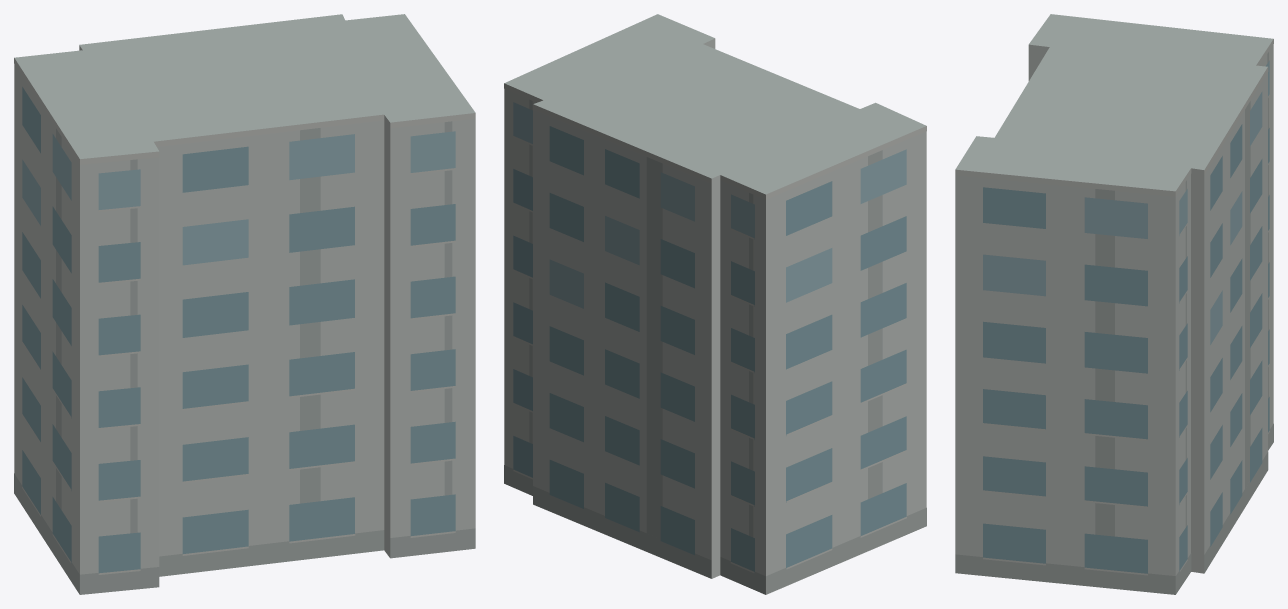
The model's file is survey-upis-33021692.glb.
3 renders of one model, left to right at view 1: azimuth 30°, elevation 25°; view 2: azimuth 150°, elevation 25°; view 3: azimuth 270°, elevation 25°, orthographic. The views are drawn at different scales.
Parts seen in each view (by area): view 1: survey-upis-33021692.tmp; view 2: survey-upis-33021692.tmp; view 3: survey-upis-33021692.tmp.
Part boxes in pixels (bbox=[...]): survey-upis-33021692.tmp: bbox=[14, 14, 475, 594]; survey-upis-33021692.tmp: bbox=[504, 14, 926, 594]; survey-upis-33021692.tmp: bbox=[955, 14, 1273, 594].
Bounding box in the file's own units: 17.26 × 18.3 × 13.1.
